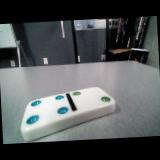domino: (21, 87, 115, 140)
